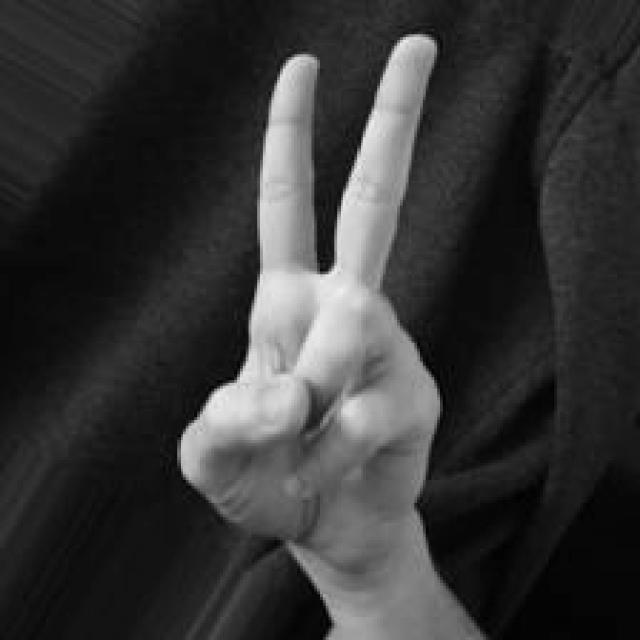V: (174, 29, 443, 553)
